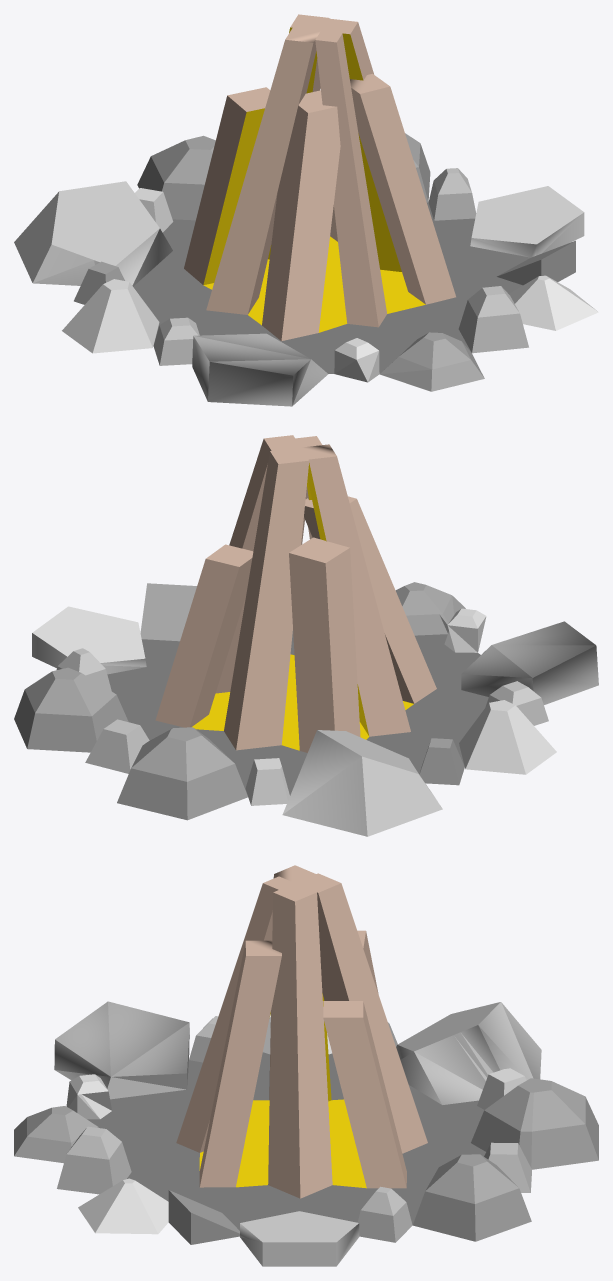
Rendered from Campfire.fbx.
3 views of the same model, one above another, from view 1: azimuth 30°, elevation 25°; view 2: azimuth 150°, elevation 25°; view 3: azimuth 270°, elevation 25° (orthographic). The views are drawn at different scales.
Parts seen in each view (by area): view 1: Campfire; view 2: Campfire; view 3: Campfire.
Boxes of the visible parts, box(x1,y1,x2,y2) form: Campfire: box(14, 14, 598, 406); Campfire: box(14, 435, 598, 836); Campfire: box(14, 865, 598, 1266).
Bounding box in the file's own units: 0.6452 × 0.32 × 0.6525.
